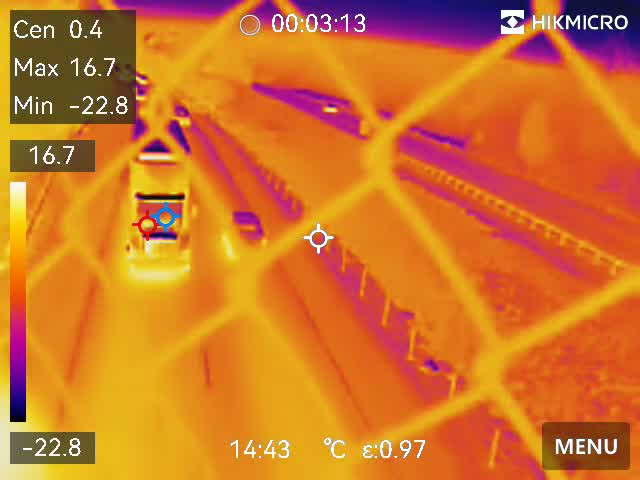heavyTruck: (129, 116, 208, 280)
vehicle: (225, 203, 265, 264), (173, 104, 192, 131), (321, 99, 342, 117)
